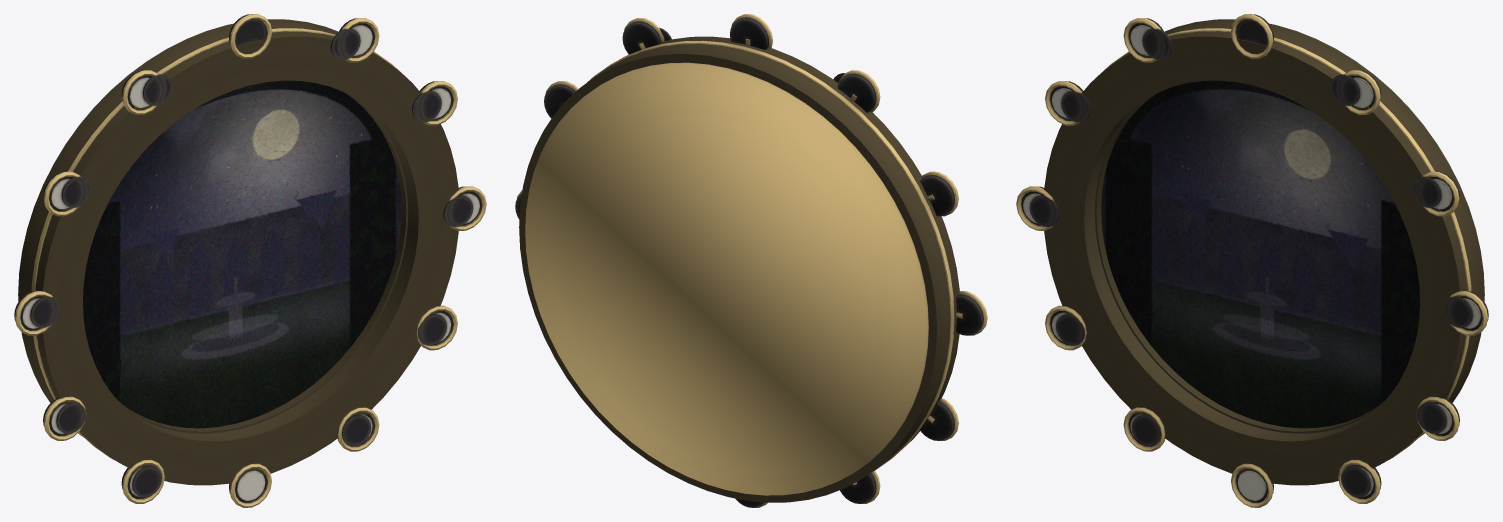
The model's file is TondoMoonCloister.fbx.
3 renders of one model, left to right at view 1: azimuth 30°, elevation 25°; view 2: azimuth 150°, elevation 25°; view 3: azimuth 330°, elevation 25°, orthographic.
Visible parts, largest first — view 1: TondoMoonCloister_Canvas, TondoMoonCloister_Main; view 2: TondoMoonCloister_Main; view 3: TondoMoonCloister_Canvas, TondoMoonCloister_Main.
Boxes of the visible parts, x1,y1,x2,y2 form: TondoMoonCloister_Canvas: (83,80,401,428); TondoMoonCloister_Main: (14,14,486,507); TondoMoonCloister_Main: (515,14,987,507); TondoMoonCloister_Canvas: (1101,80,1419,428); TondoMoonCloister_Main: (1016,14,1488,507).
Size of the model in its own units: 504 by 504 by 50.5.
